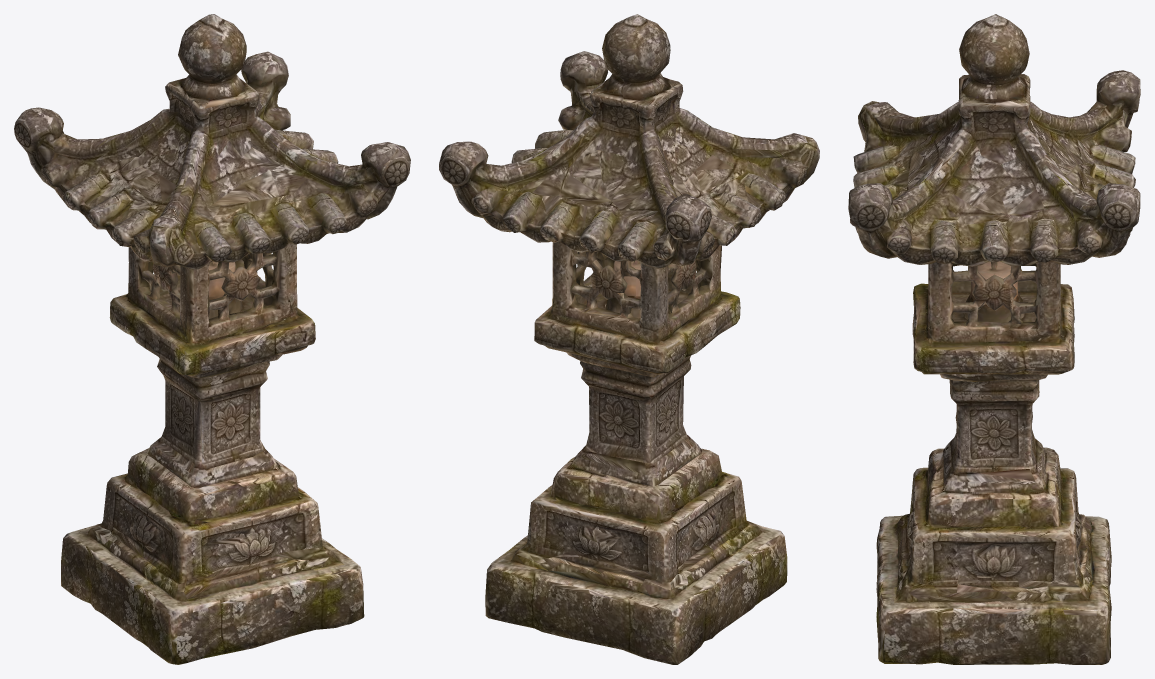
Rendered from lanterna.glb.
3 renders of one model, left to right at view 1: azimuth 30°, elevation 25°; view 2: azimuth 150°, elevation 25°; view 3: azimuth 270°, elevation 25°, orthographic. The views are drawn at different scales.
Visible parts, largest first — view 1: lanterna; view 2: lanterna; view 3: lanterna.
Boxes of the visible parts, box(x1,y1,x2,y2) form: lanterna: box(14, 14, 410, 664); lanterna: box(439, 14, 819, 664); lanterna: box(848, 14, 1140, 664).
Bounding box in the file's own units: 0.7488 × 1.6 × 0.704.
1 material, 1 textured.
